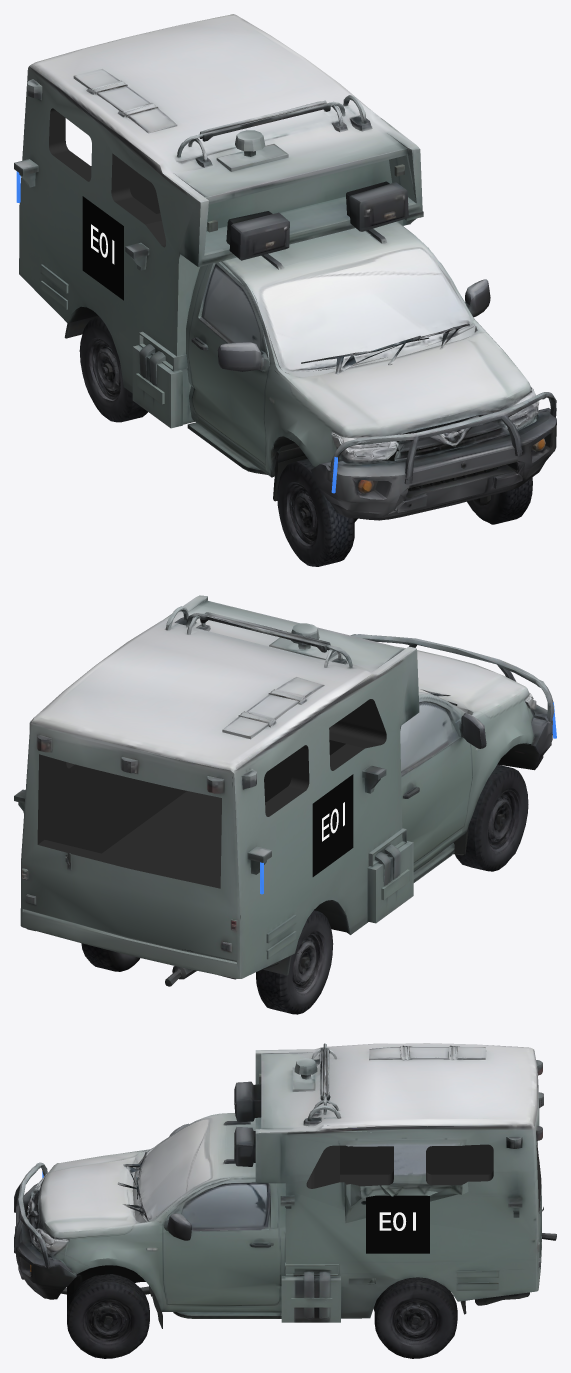
File: LUV_E01.glb
3 views of the same model, one above another, from view 1: azimuth 30°, elevation 25°; view 2: azimuth 150°, elevation 25°; view 3: azimuth 270°, elevation 25° (orthographic). The views are drawn at different scales.
Visible parts, largest first — view 1: tripo_node_31b41880, Plane; view 2: tripo_node_31b41880, Plane; view 3: tripo_node_31b41880, Plane.001.
Part boxes in pixels (box(x1,y1,x2,y2)): tripo_node_31b41880: box(14, 14, 556, 566); Plane: box(82, 196, 123, 300); tripo_node_31b41880: box(14, 595, 556, 1014); Plane: box(312, 774, 353, 876); tripo_node_31b41880: box(14, 1043, 556, 1358); Plane.001: box(366, 1195, 429, 1253).
Size of the model in its own units: 0.4395 by 0.498 by 0.9824.
Materials: 6 (1 with a texture image).
